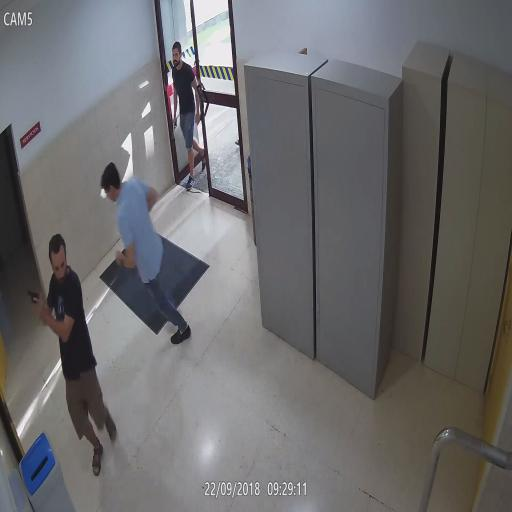Handgun: (26, 286, 44, 316), (170, 116, 178, 140)
